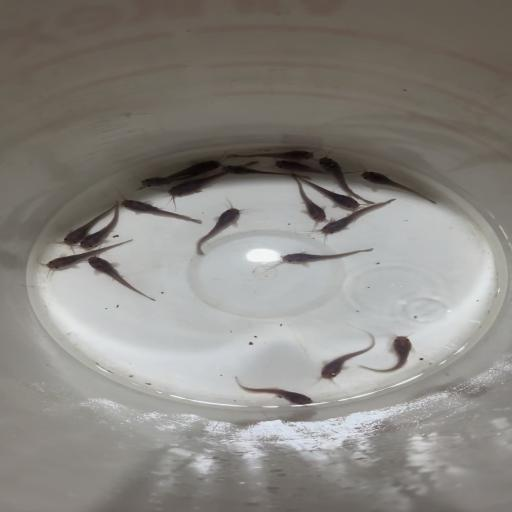lele: (316, 322, 376, 385), (168, 160, 260, 199), (84, 256, 156, 302), (191, 200, 248, 258), (42, 238, 134, 272), (318, 197, 397, 236), (316, 154, 376, 204), (358, 169, 438, 204), (232, 374, 314, 406), (58, 204, 116, 246), (361, 332, 417, 374), (116, 197, 203, 224), (79, 200, 120, 251), (296, 176, 361, 208), (268, 247, 374, 265), (289, 175, 328, 222), (222, 162, 312, 180), (273, 158, 366, 175), (223, 146, 317, 162), (170, 158, 221, 178), (135, 174, 196, 188)
